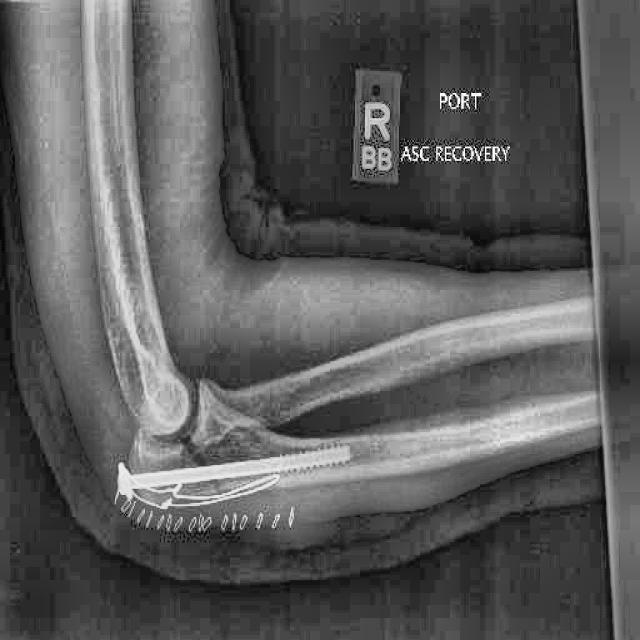elbow positive: (162, 413, 264, 538)
